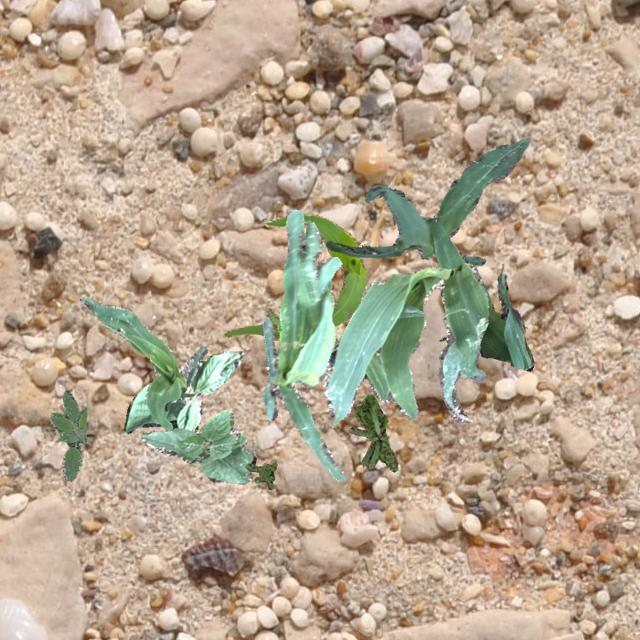crop: (322, 262, 488, 426), (326, 138, 528, 264), (262, 208, 344, 480), (222, 212, 366, 348), (79, 296, 205, 429), (430, 218, 532, 370), (124, 350, 242, 432), (140, 408, 256, 482)
weed: (348, 394, 397, 471), (48, 390, 86, 480), (244, 461, 276, 488)
